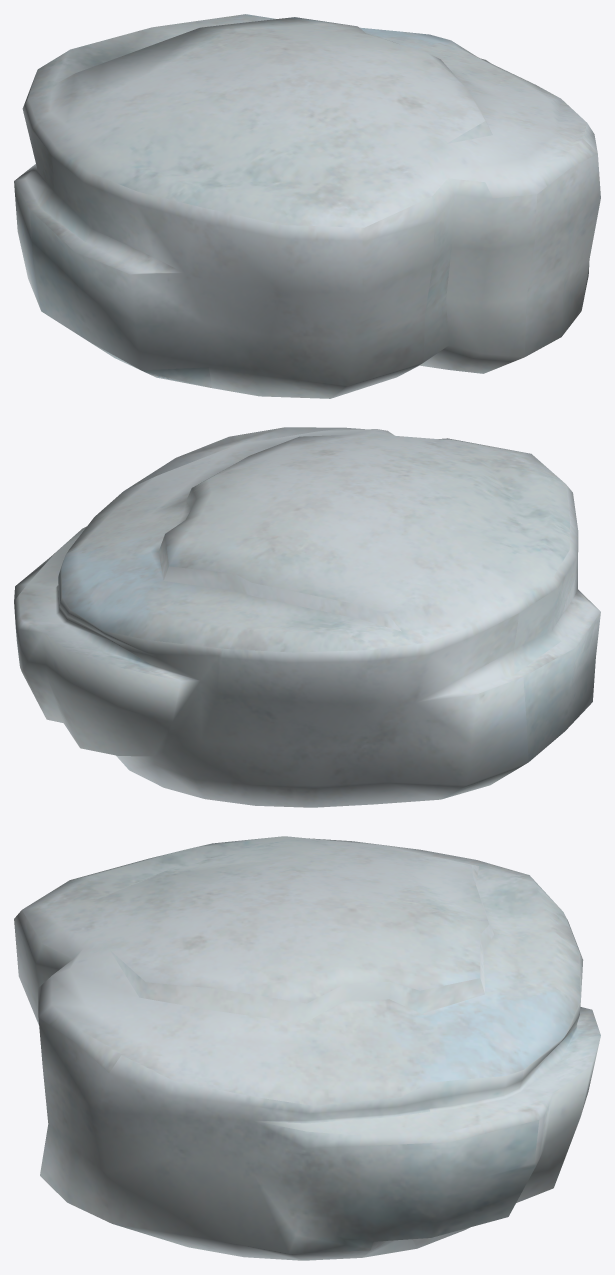
Rendered from P_RockDesert_Shelf04.obj.
3 renders of one model, top to bottom at view 1: azimuth 30°, elevation 25°; view 2: azimuth 150°, elevation 25°; view 3: azimuth 270°, elevation 25°, orthographic. The views are drawn at different scales.
Bounding box in the file's own units: 22.29 × 10.62 × 22.01.
